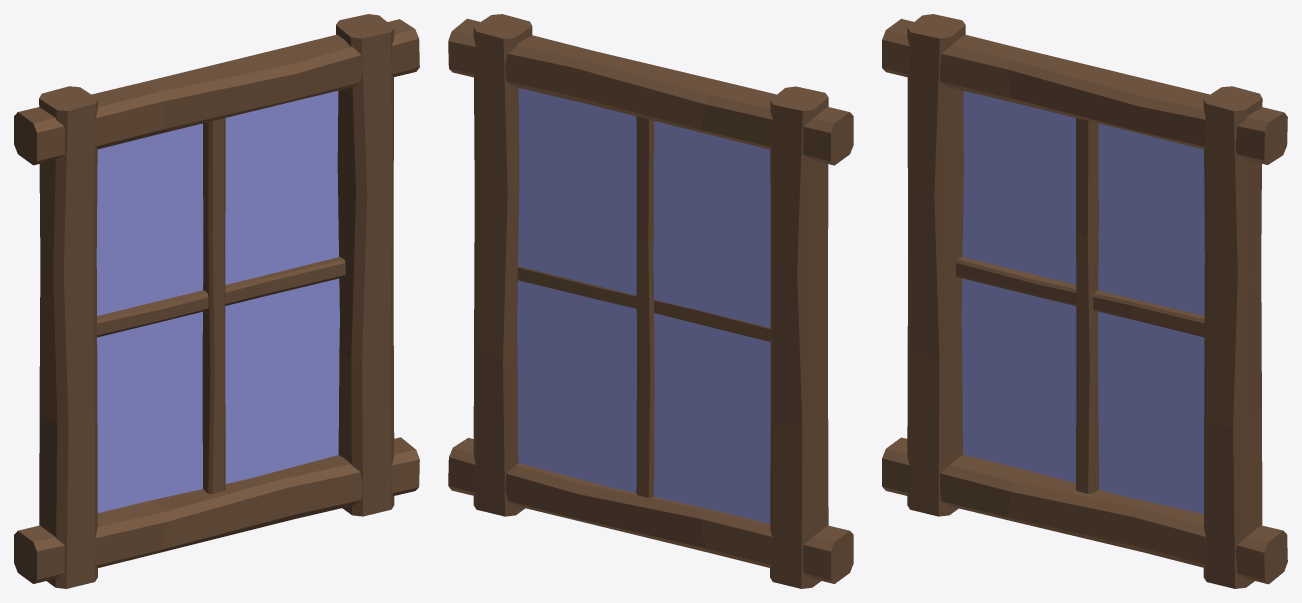
File: Окно3.fbx
The picture shows the model from 3 angles, left to right: view 1: azimuth 30°, elevation 25°; view 2: azimuth 150°, elevation 25°; view 3: azimuth 330°, elevation 25°; orthographic projection.
Visible parts, largest first — view 1: Plane; view 2: Plane; view 3: Plane.
Boxes of the visible parts, x1,y1,x2,y2 form: Plane: (14,14,419,588); Plane: (448,14,853,588); Plane: (882,14,1287,588).
Bounding box in the file's own units: 321 × 383 × 38.11.
